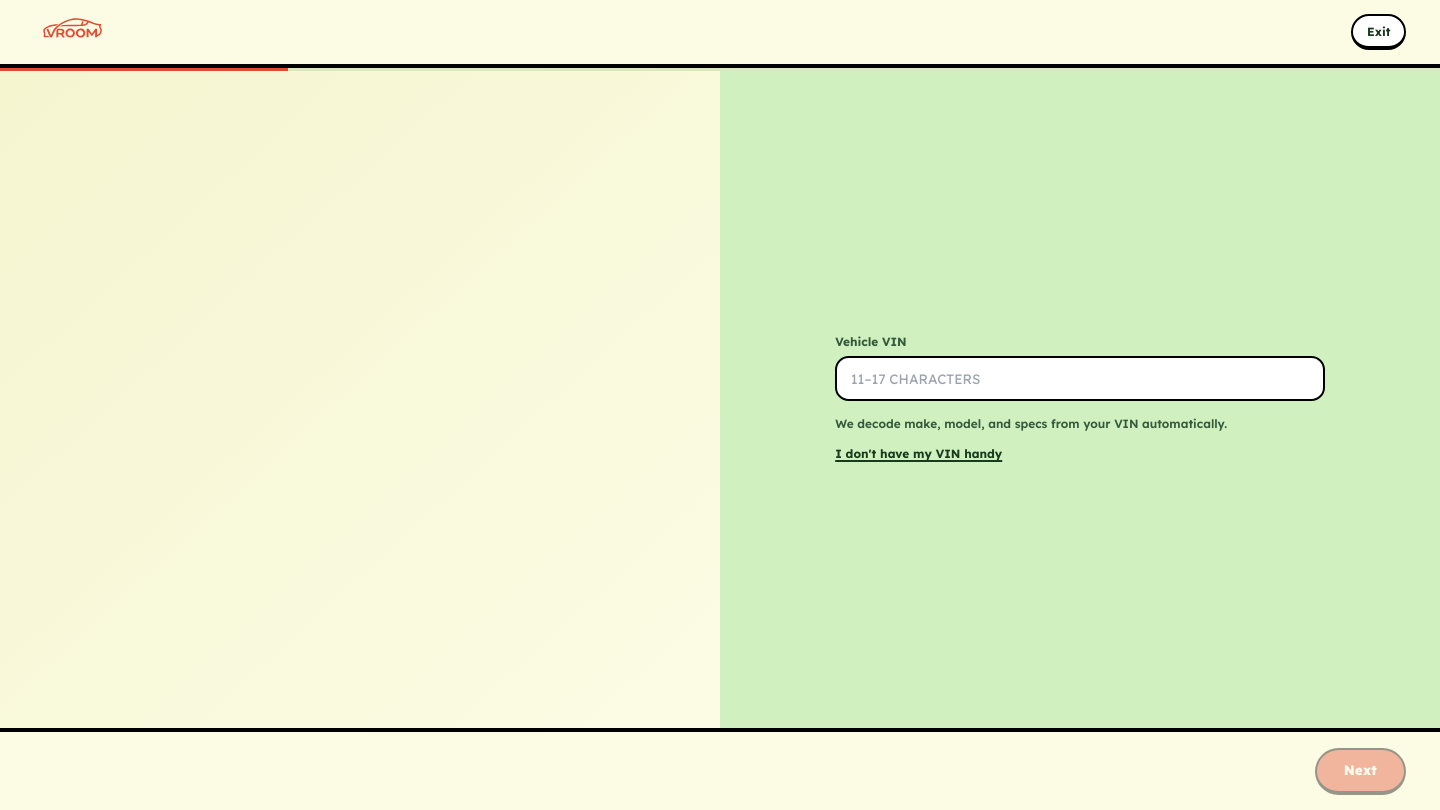
Scenario: HostOnboardingFlow — VIN step › manual skip shows trust warning on step 2
Click the button "I don't have my VIN handy".
click(919, 454)  # box [835,445,1002,462]
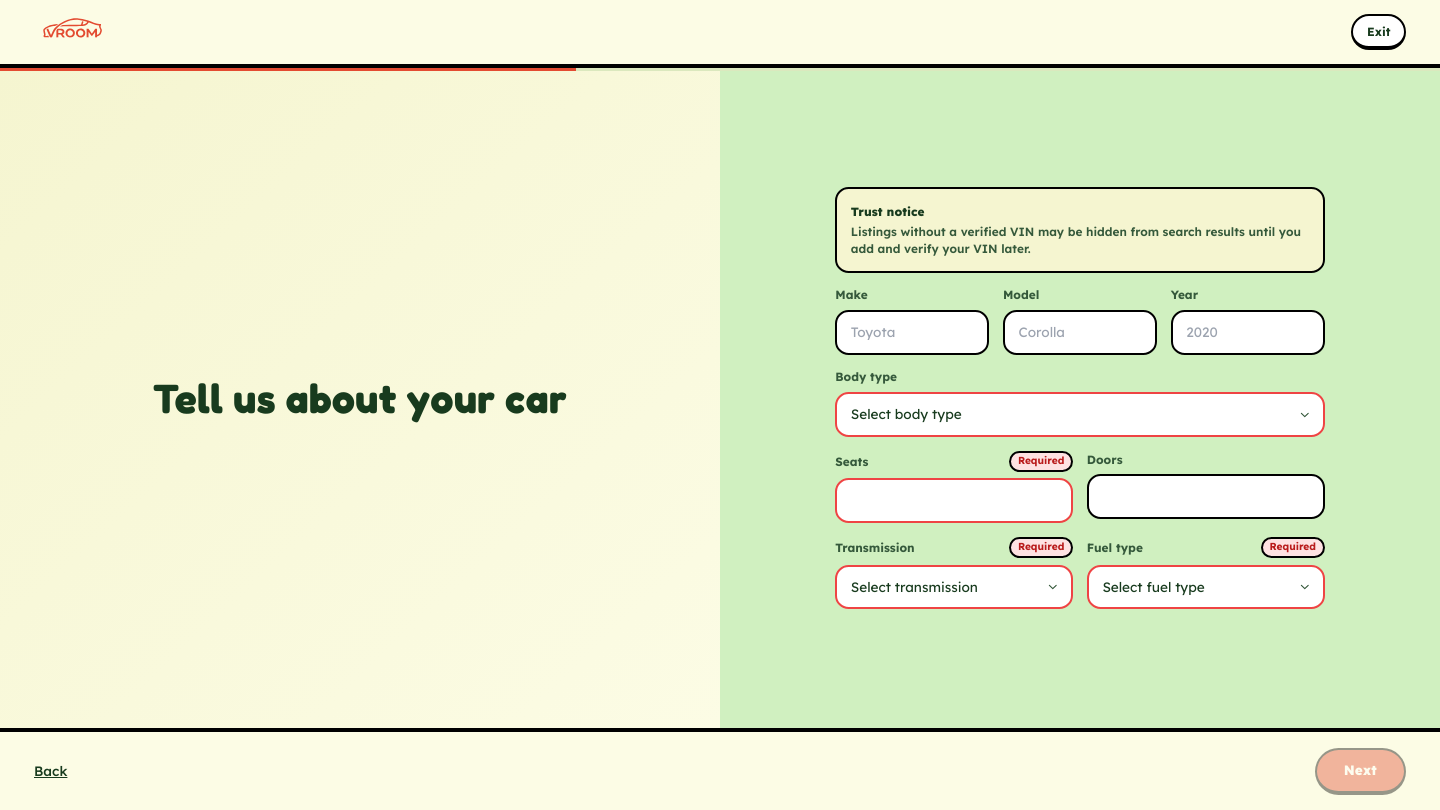
Expected: the text "Trust notice" is shown, [851,204,924,219]
Expected: the text "hidden from search" is shown, [851,224,1301,256]
